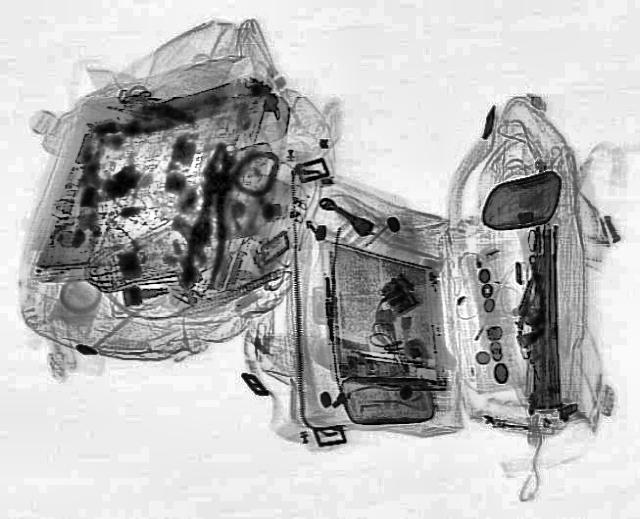Pliers: (176, 143, 238, 289)
